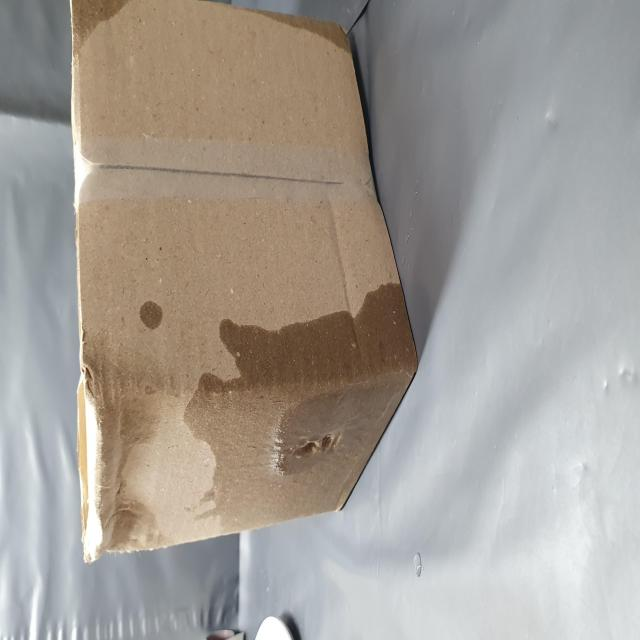wet: (44, 146, 197, 640)
